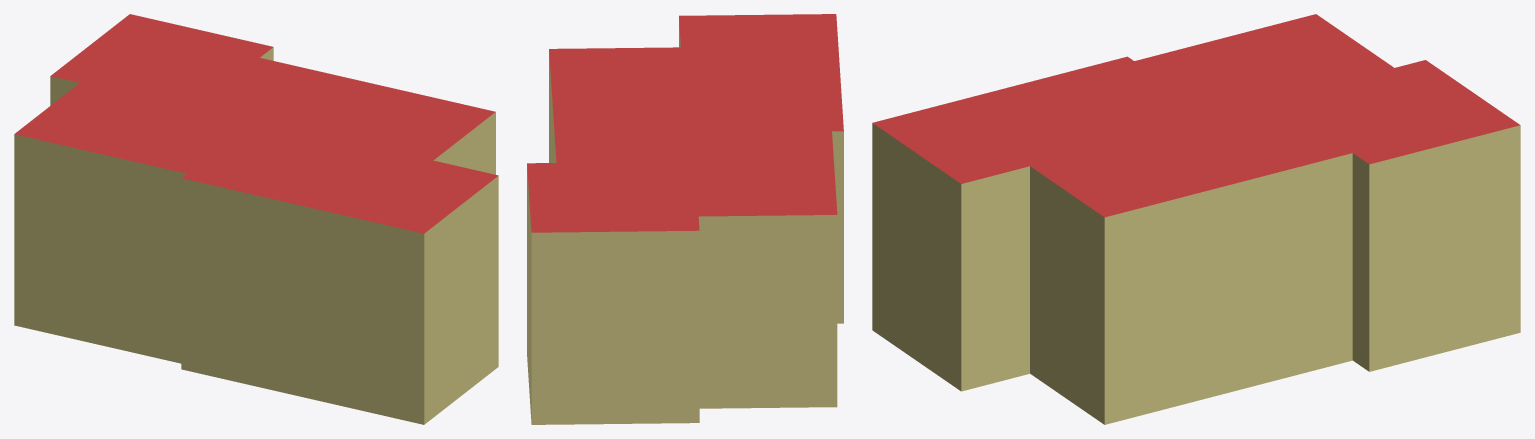
3 views of the same model, side by side, from view 1: azimuth 30°, elevation 25°; view 2: azimuth 150°, elevation 25°; view 3: azimuth 270°, elevation 25° (orthographic). The views are drawn at different scales.
Bounding box in the file's own units: 17.21 × 23.18 × 8.19.
